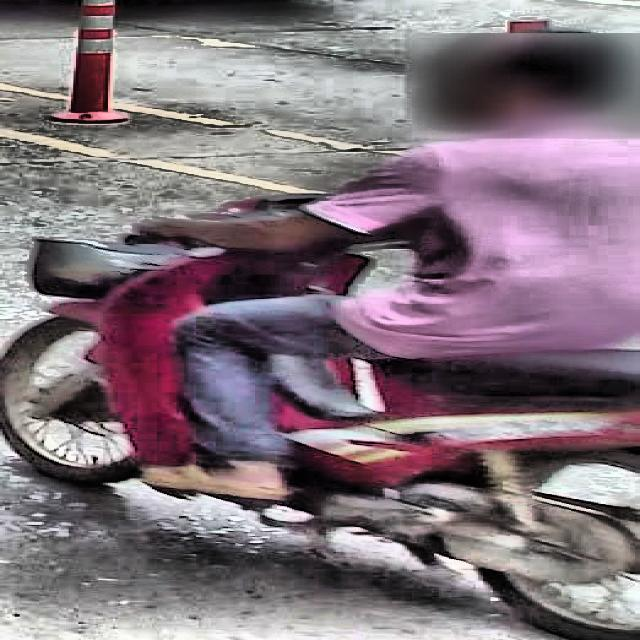motorcycle: (7, 142, 640, 640)
